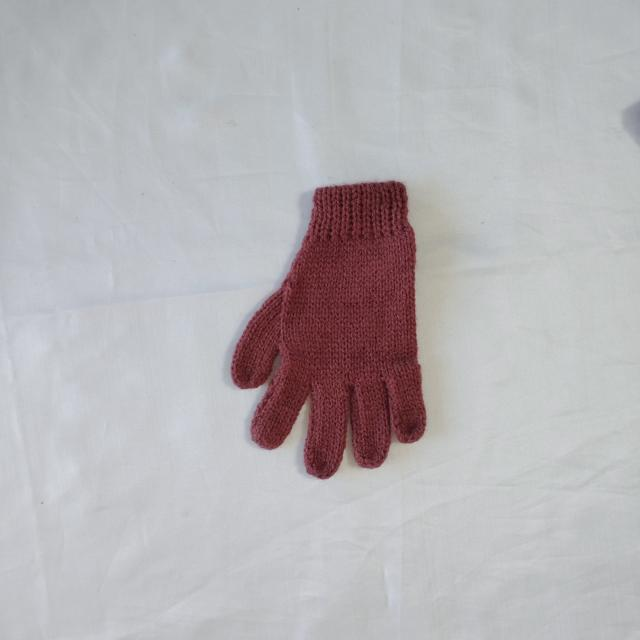Guante: (230, 179, 428, 480)
